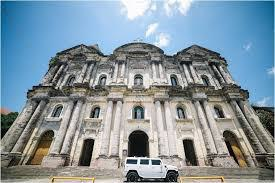taal_basilica_church_taal_batangas: (16, 38, 262, 171)
